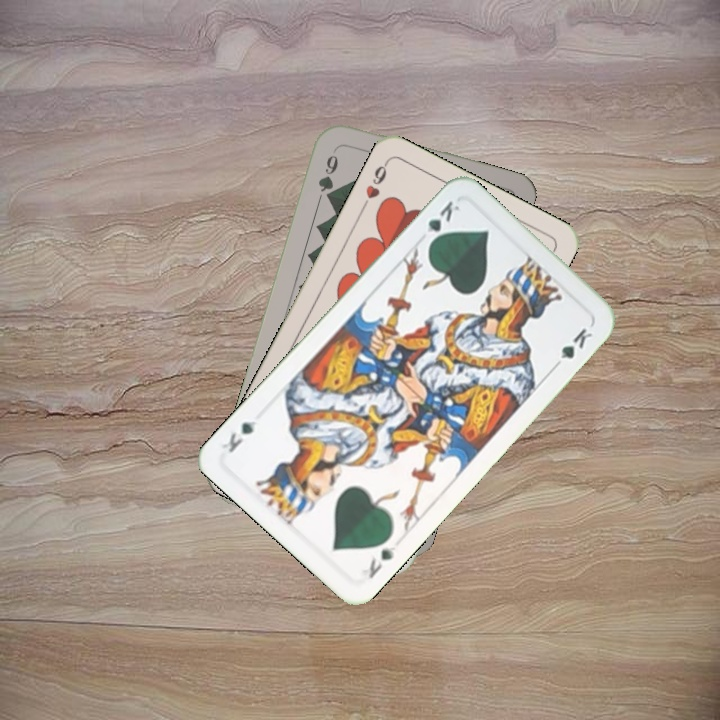G9: (314, 144, 341, 204)
GK: (423, 196, 462, 249), (364, 542, 398, 582)
H9: (357, 157, 391, 212)
